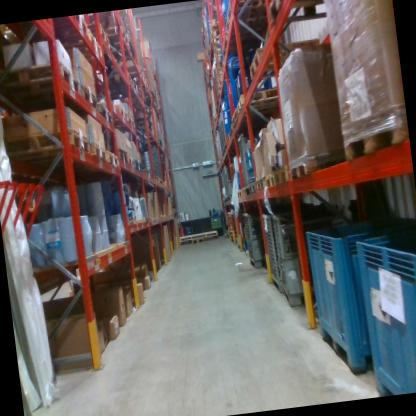pallet: (3, 118, 92, 175), (242, 33, 325, 84), (0, 55, 81, 106), (339, 112, 409, 160), (42, 26, 109, 63), (264, 0, 337, 29), (287, 148, 348, 182), (223, 0, 274, 40), (234, 83, 291, 118), (26, 14, 89, 42), (96, 62, 145, 84), (229, 102, 263, 130), (94, 23, 130, 49), (79, 79, 105, 112), (93, 100, 128, 123), (118, 77, 152, 99), (273, 159, 297, 190), (85, 22, 112, 49), (84, 138, 108, 167), (104, 113, 136, 132), (207, 32, 233, 54), (112, 143, 128, 167), (101, 148, 118, 169), (264, 168, 278, 190), (218, 58, 231, 79), (122, 152, 137, 170), (255, 174, 268, 194), (215, 71, 228, 91), (247, 176, 259, 194), (139, 163, 153, 178), (131, 152, 142, 170), (226, 125, 235, 144), (150, 172, 160, 185), (190, 236, 204, 245), (234, 186, 243, 199), (149, 67, 158, 79), (242, 184, 247, 199), (159, 178, 164, 186)
stillage: (272, 207, 328, 312), (241, 207, 272, 273), (262, 212, 284, 298), (215, 115, 224, 163), (219, 110, 228, 155), (218, 115, 226, 154)
